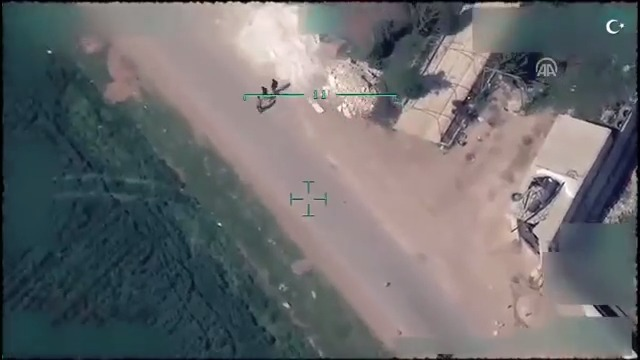insan: (269, 76, 281, 93), (253, 93, 264, 111)
